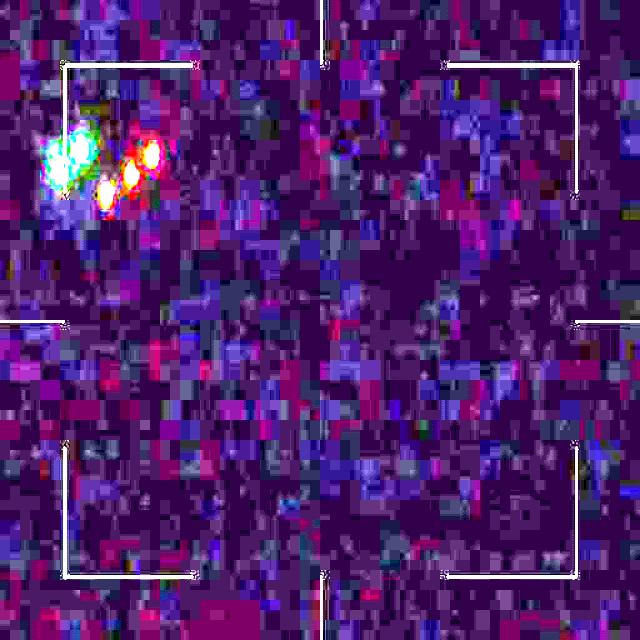bird: (46, 135, 161, 205)
